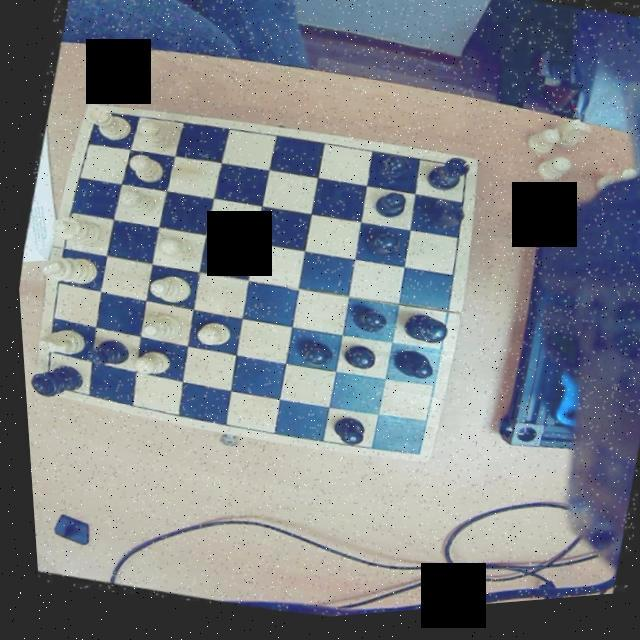chess-table-corners: (394, 442, 426, 471), (449, 163, 477, 191), (84, 102, 115, 125), (30, 368, 56, 392)
